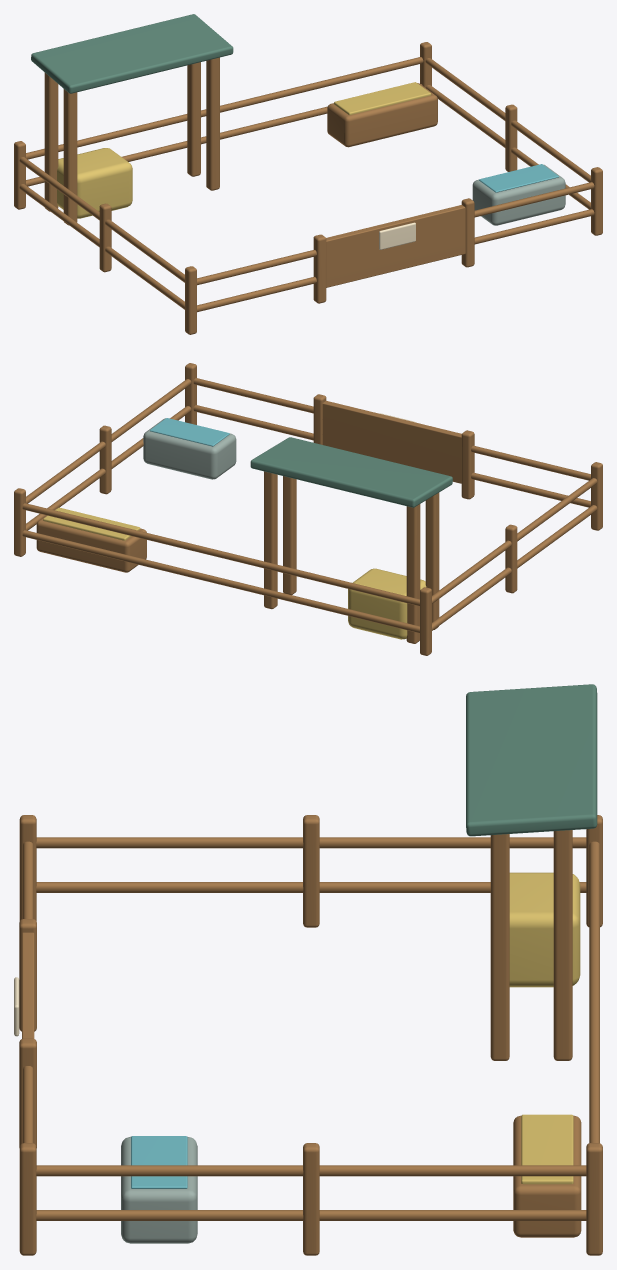
The model's file is corral.glb.
The picture shows the model from 3 angles, top to bottom: view 1: azimuth 30°, elevation 25°; view 2: azimuth 150°, elevation 25°; view 3: azimuth 270°, elevation 25°; orthographic projection. The views are drawn at different scales.
Parts seen in each view (by area): view 1: Roof, Gate, FeedTrough, HayBale, RearRail.001, WaterTrough, ShelterPost.002, ShelterPost, ShelterPost.001, ShelterPost.003, Feed, RearRail (+18 smaller); view 2: Roof, Gate, WaterTrough, RearRail, RearRail.001, HayBale, FeedTrough, ShelterPost.001, ShelterPost.003, ShelterPost, ShelterPost.002, SideRail (+17 smaller); view 3: Roof, SideRail.003, HayBale, SideRail.001, SideRail.002, SideRail, ShelterPost.003, ShelterPost.002, WaterTrough, FeedTrough, RearRail.001, Feed (+12 smaller).
Boxes of the visible parts, left/top/right/bottom form: Roof: left=31, top=14, right=233, bottom=93; Gate: left=326, top=205, right=465, bottom=287; FeedTrough: left=327, top=83, right=437, bottom=147; HayBale: left=57, top=148, right=132, bottom=218; RearRail.001: left=26, top=57, right=423, bottom=159; WaterTrough: left=472, top=164, right=565, bottom=225; ShelterPost.002: left=206, top=57, right=219, bottom=190; ShelterPost: left=63, top=89, right=77, bottom=225; ShelterPost.001: left=44, top=72, right=58, bottom=211; ShelterPost.003: left=187, top=62, right=200, bottom=176; Feed: left=334, top=82, right=431, bottom=115; RearRail: left=26, top=84, right=422, bottom=186; Roof: left=250, top=437, right=452, bottom=507; Gate: left=322, top=400, right=461, bottom=483; WaterTrough: left=143, top=418, right=236, bottom=479; RearRail: left=22, top=530, right=419, bottom=633; RearRail.001: left=22, top=503, right=419, bottom=606; HayBale: left=348, top=568, right=426, bottom=639; FeedTrough: left=36, top=508, right=146, bottom=572; ShelterPost.001: left=406, top=504, right=420, bottom=643; ShelterPost.003: left=264, top=471, right=277, bottom=609; ShelterPost: left=425, top=492, right=439, bottom=629; ShelterPost.002: left=283, top=476, right=296, bottom=594; SideRail: left=432, top=505, right=597, bottom=630; Roof: left=466, top=684, right=597, bottom=836; SideRail.003: left=36, top=1165, right=586, bottom=1176; HayBale: left=509, top=872, right=580, bottom=987; SideRail.001: left=36, top=837, right=586, bottom=848; SideRail.002: left=36, top=1210, right=586, bottom=1220; SideRail: left=36, top=882, right=586, bottom=892; ShelterPost.003: left=553, top=830, right=572, bottom=1060; ShelterPost.002: left=490, top=834, right=509, bottom=1060; WaterTrough: left=121, top=1136, right=197, bottom=1243; FeedTrough: left=513, top=1115, right=581, bottom=1237; RearRail.001: left=589, top=841, right=599, bottom=1143; Feed: left=521, top=1114, right=573, bottom=1184.
Size of the model in its own units: 7.56 by 2.65 by 5.61.
